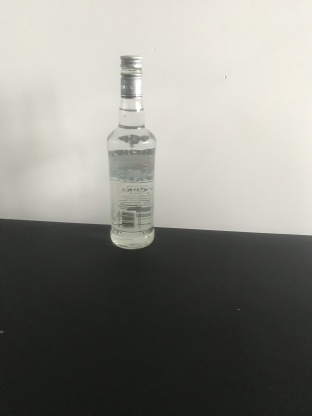nakretka: (119, 54, 144, 99)
